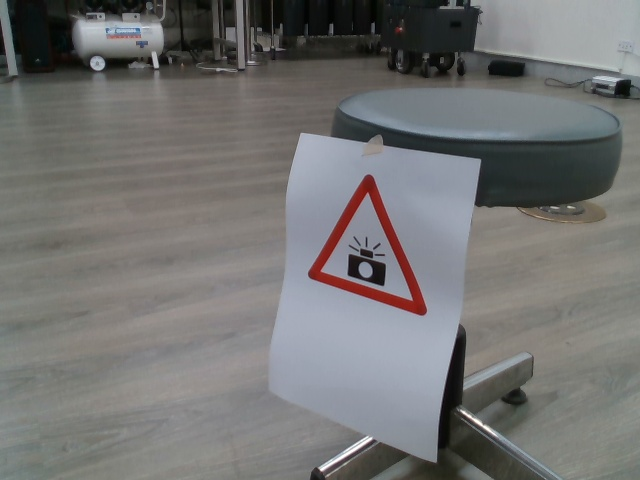camera: (306, 173, 427, 319)
